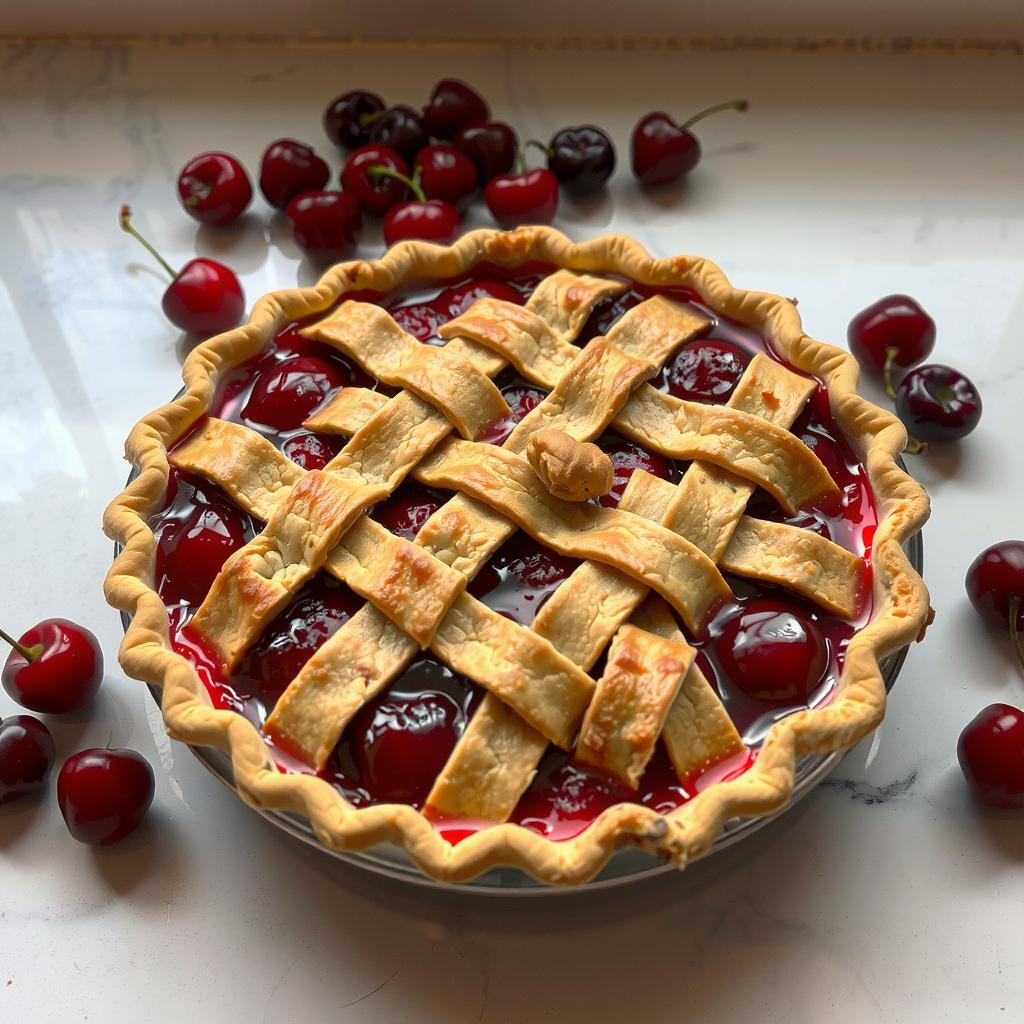pie: (94, 216, 951, 900)
